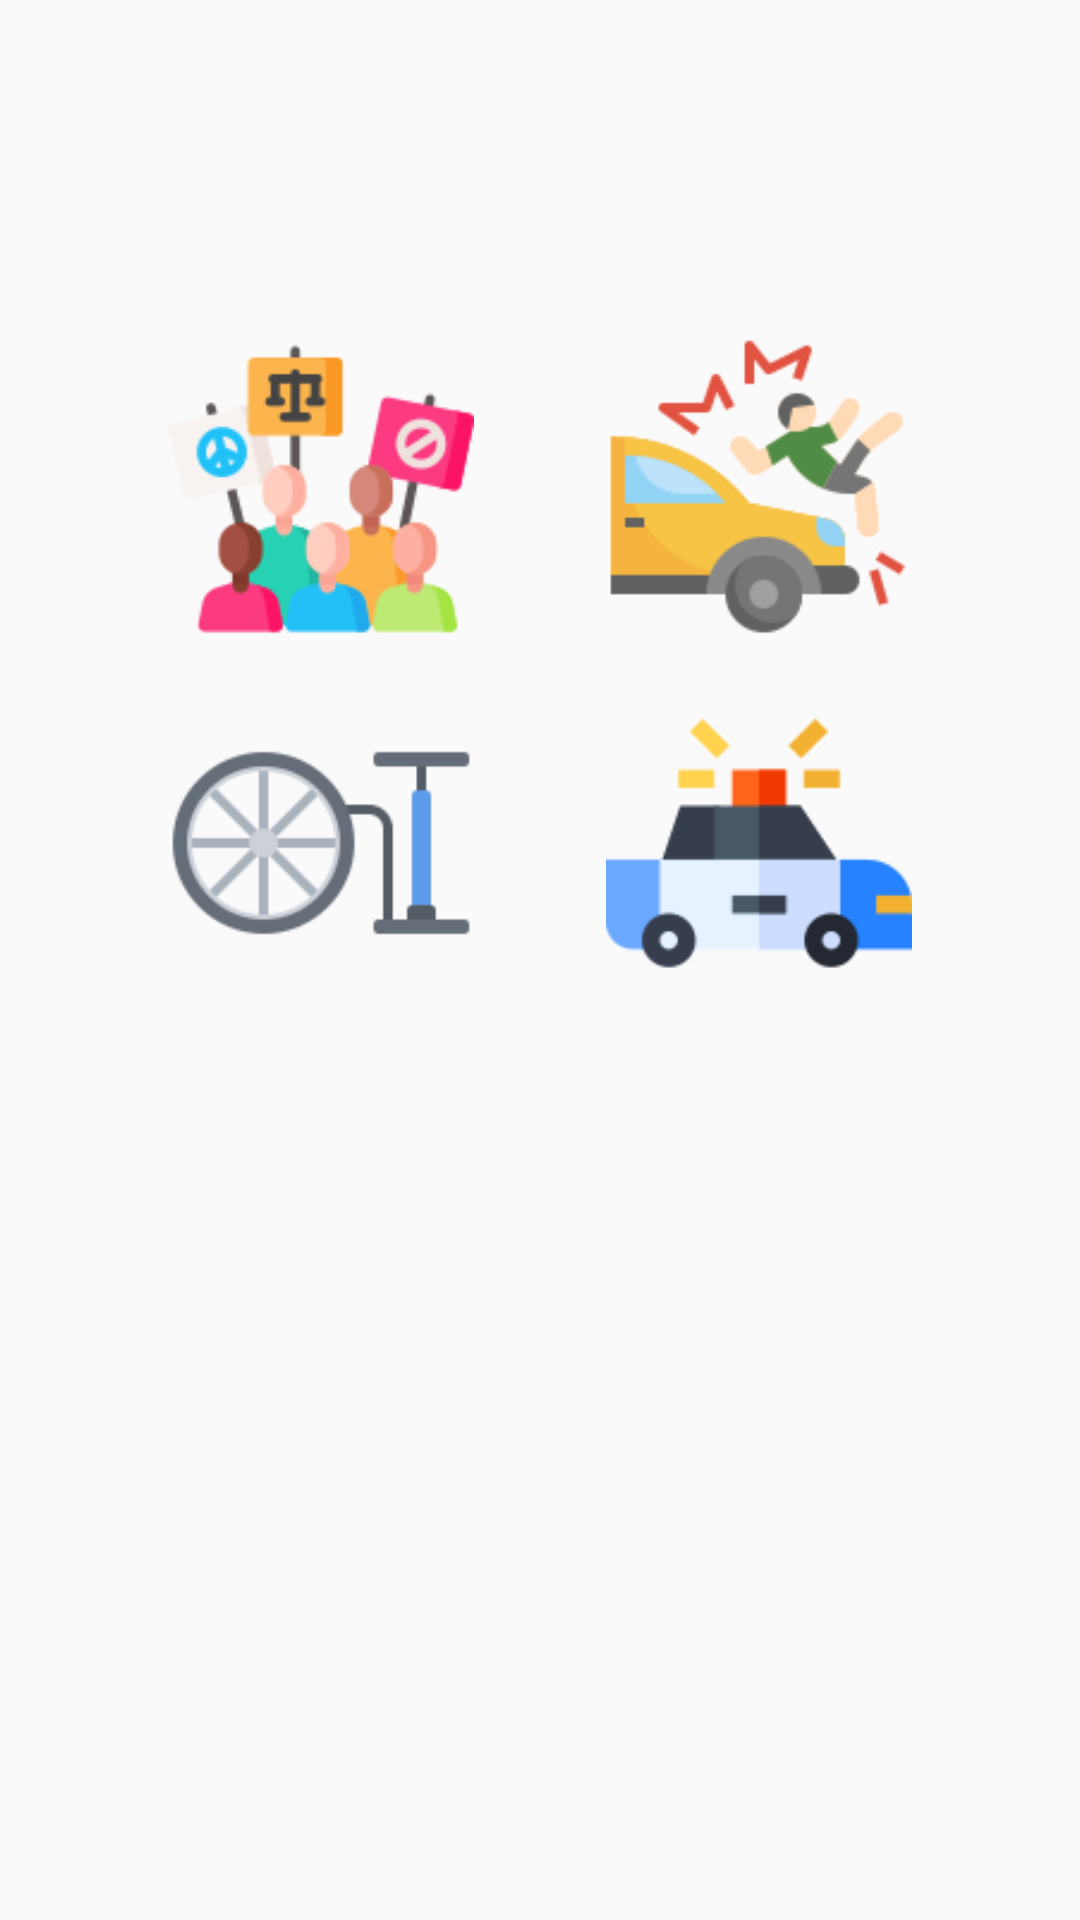

Icons on this 1080w x 1920h Android screen, each with the point to tap as (x,y):
accident: (758,486)
police car: (759,843)
protest: (335,489)
pump: (321,843)
